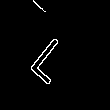L_NE: (28, 26, 82, 84)
